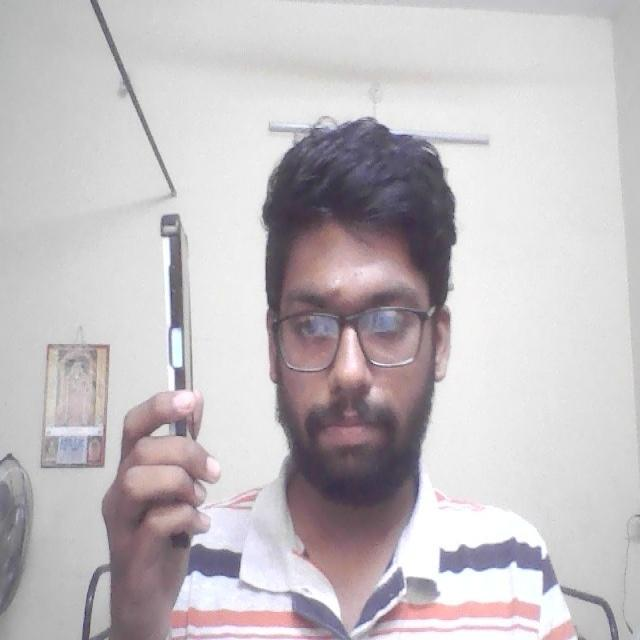Mobile: (154, 206, 198, 438)
